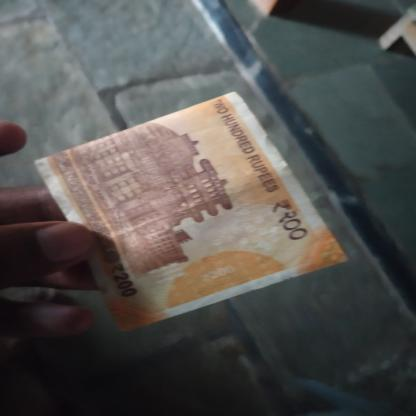New200Back: (46, 102, 308, 299)
